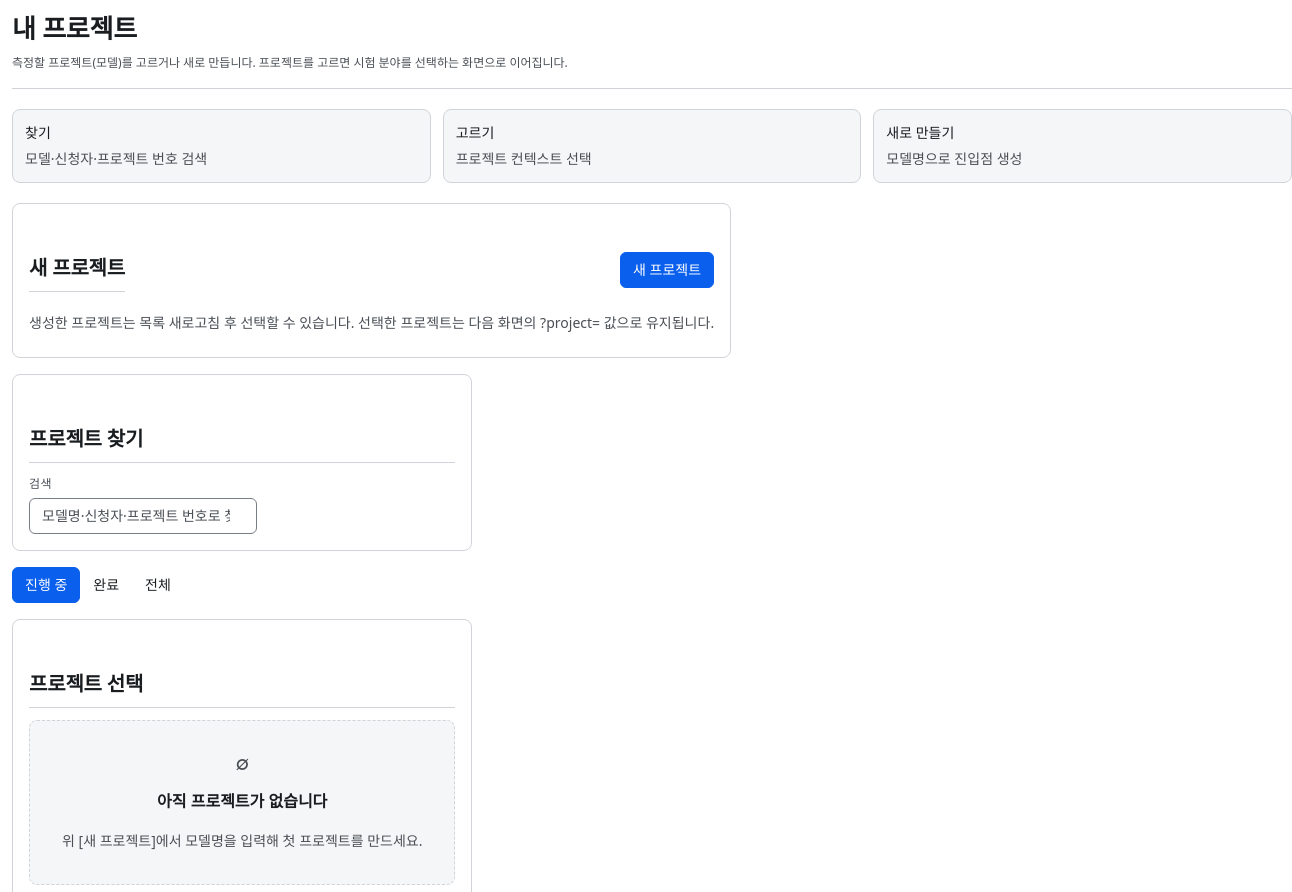
Test: MyProjectsRoute › does not ask for the report-stage fields, and says where they moved
Step 1. Click the button with test id "new-project-toggle" → (667, 270), box 620,252 -> 714,288
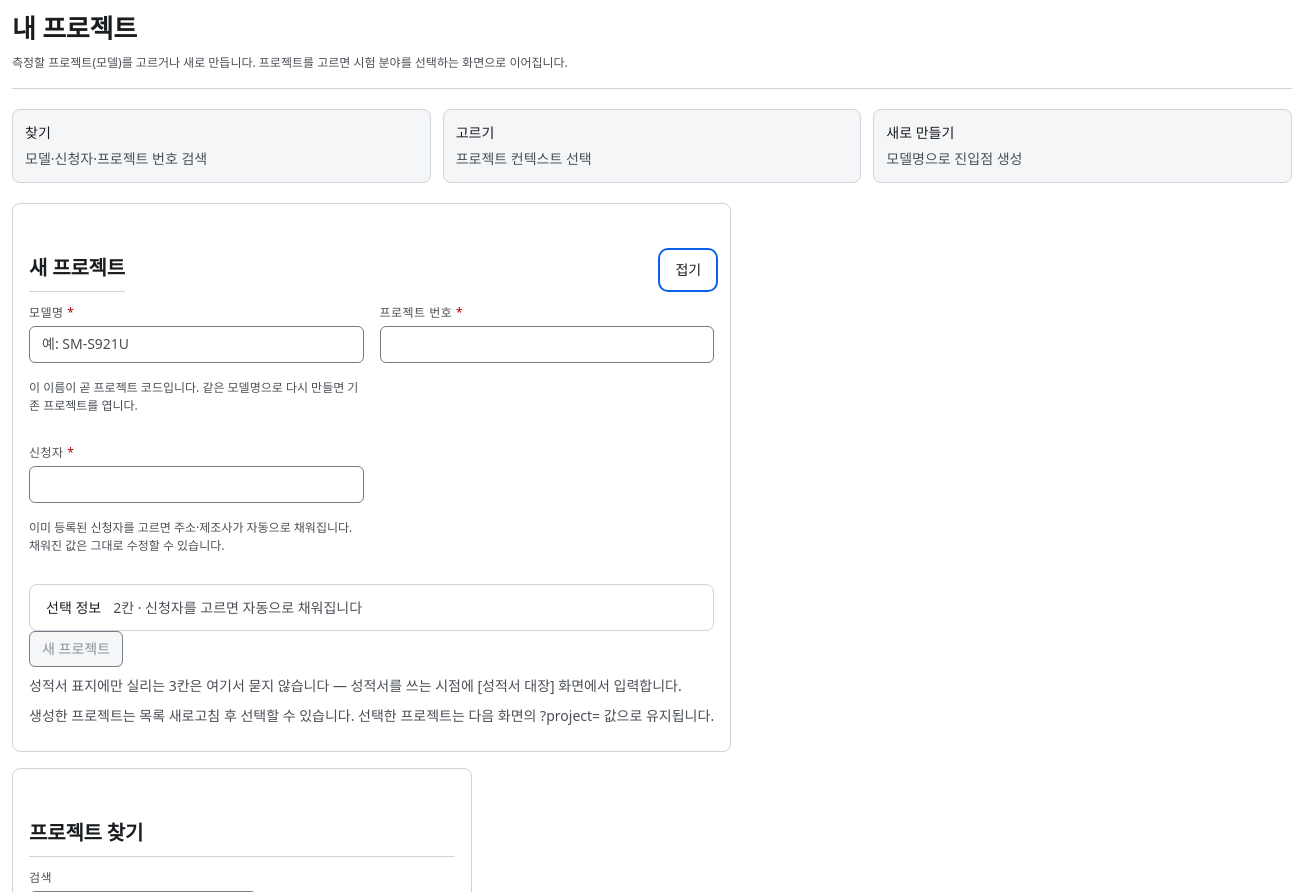
Expected: the button with test id "new-project-submit" is shown, 29,631 -> 123,667
Expected: the text with test id "new-project-report-stage-hint" is shown, 29,675 -> 714,697
